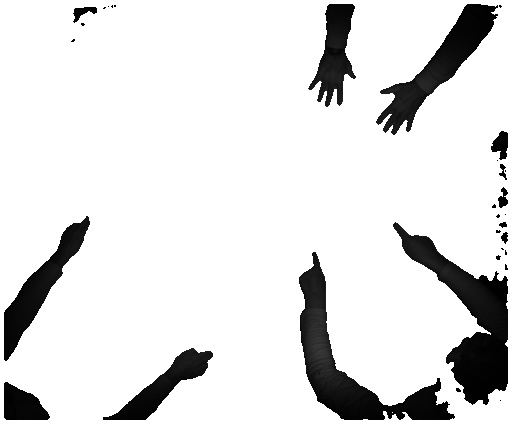hand: (304, 54, 359, 111), (376, 82, 431, 135), (392, 216, 442, 268), (174, 344, 215, 385), (296, 248, 327, 302), (59, 216, 95, 262)
